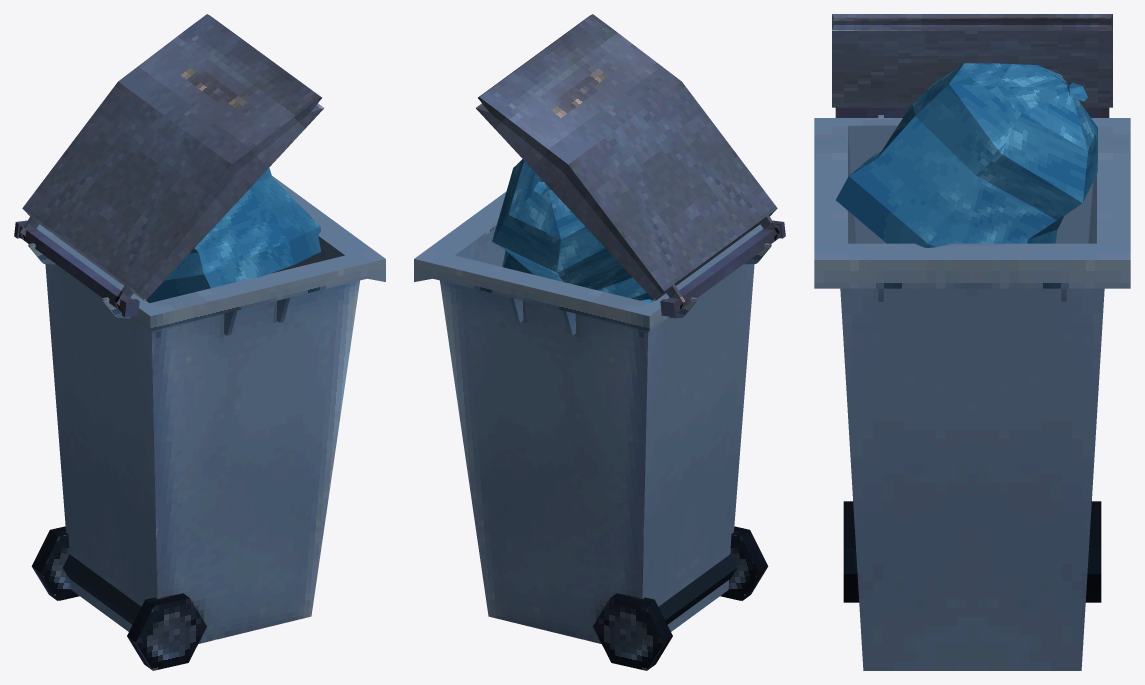
The model's file is trash_can_alt1_overflowing.glb.
3 renders of one model, left to right at view 1: azimuth 30°, elevation 25°; view 2: azimuth 150°, elevation 25°; view 3: azimuth 270°, elevation 25°, orthographic. The views are drawn at different scales.
Parts seen in each view (by area): view 1: trash_can_alt1_overflowing; view 2: trash_can_alt1_overflowing; view 3: trash_can_alt1_overflowing.
Part boxes in pixels (bbox=[...]): trash_can_alt1_overflowing: bbox=[14, 14, 385, 670]; trash_can_alt1_overflowing: bbox=[414, 14, 785, 670]; trash_can_alt1_overflowing: bbox=[814, 14, 1130, 670].
Bounding box in the file's own units: 0.9 × 1.81 × 0.7794.
Materials: 3 (3 with a texture image).
